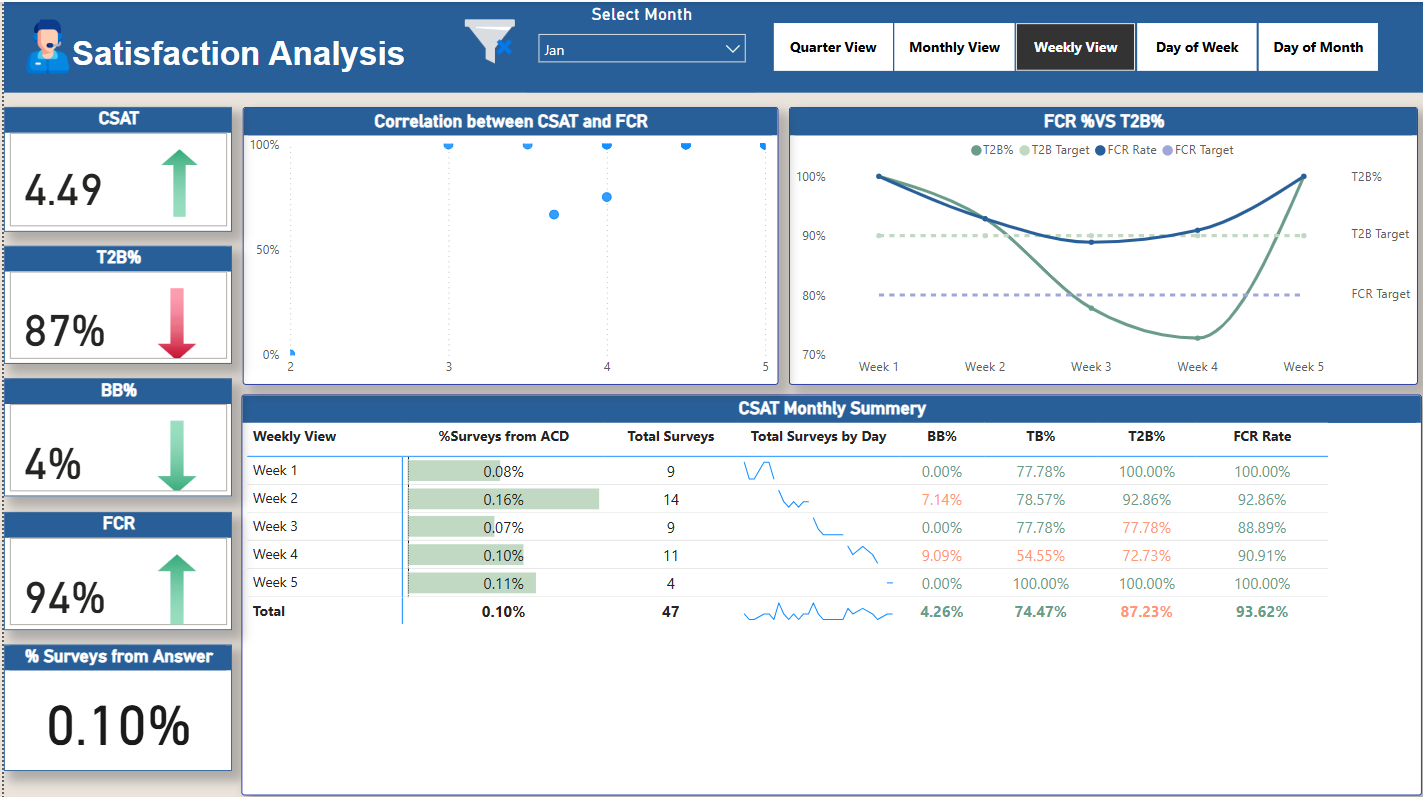

The page's visual inventory and layout, read from the dashboard file:
{"tool":"powerbi","page":{"name":"Satisfaction Analysis","canvas":[1366,768],"ordinal":1},"visuals":[{"type":"shape","box":[0,0,1365.5,87.6],"z":0},{"type":"textbox","box":[50.7,1.5,350.2,89.1],"z":1000},{"type":"image","box":[0,12.3,84.5,61.4],"z":2000},{"type":"lineChart","title":"FCR %VS T2B%","fields":{"Category":["Dim_Date.WeekOfMonth"],"Y":["Measures_Table.T2B%","Target_Table.T2B Target","Measures_Table.FCR Rate","Target_Table.FCR Target"]},"box":[755.1,101.3,604.8,266.9],"z":3000},{"type":"card","title":"% Surveys from Answer","fields":{"Values":["CSAT Data.%Surveys from ACD"]},"box":[0,617.5,219.5,121.6],"z":4000},{"type":"pivotTable","title":"CSAT Monthly Summery","fields":{"Rows":["Dim_Date.WeekOfMonth"],"Values":["CSAT Data.%Surveys from ACD","CSAT Data.Total Surveys","SparklineData(Measures_Table.Total Surveys_[Dim_Date.Date.Variation.Date Hierarchy.Day])","CSAT Data.BB%","CSAT Data.TB%","CSAT Data.T2B%","CSAT Data.FCR Rate"]},"box":[228.9,377.9,1135.1,385.5],"z":5000},{"type":"slicer","fields":{"Values":["Parameter_Date.Parameter_Date"]},"box":[714.2,13.8,631.3,59.9],"z":6000},{"type":"scatterChart","title":"Correlation between CSAT and FCR","fields":{"X":["Measures_Table.Average CSAT"],"Category":["Dim_Date.Date"],"Y":["Measures_Table.FCR Rate"]},"box":[229.3,101.3,514.8,266.9],"z":7000},{"type":"cardVisual","title":"CSAT","fields":{"Data":["Measures_Table.Average CSAT"]},"box":[0,101.1,219.5,120],"z":8000},{"type":"cardVisual","title":"FCR","fields":{"Data":["Measures_Table.FCR Rate"]},"box":[0,489.9,219.5,113.7],"z":9000},{"type":"cardVisual","title":"BB%","fields":{"Data":["Measures_Table.BB%"]},"box":[0,362.4,219.5,113.7],"z":10000},{"type":"cardVisual","title":"T2B%","fields":{"Data":["Measures_Table.T2B%"]},"box":[0,234.9,219.5,113.7],"z":11000},{"type":"slicer","title":"Select Month","fields":{"Values":["Dim_Date.Month"]},"box":[503.8,1.6,219.5,85.3],"z":12000},{"type":"image","box":[430.1,0,73.7,73.7],"z":13000}]}

Visuals, with their boxes in screenshot pixels (x1, y1, x2, y2), scaled from the page's 1366x768 canvas onto the 1423x797 screenshot:
shape: locate(0, 0, 1422, 91)
textbox: locate(53, 2, 418, 94)
image: locate(0, 13, 88, 76)
"FCR %VS T2B%" lineChart: locate(787, 105, 1417, 382)
"% Surveys from Answer" card: locate(0, 641, 229, 767)
"CSAT Monthly Summery" pivotTable: locate(238, 392, 1421, 792)
slicer - Parameter_Date.Parameter_Date: locate(744, 14, 1402, 76)
"Correlation between CSAT and FCR" scatterChart: locate(239, 105, 775, 382)
"CSAT" cardVisual: locate(0, 105, 229, 229)
"FCR" cardVisual: locate(0, 508, 229, 626)
"BB%" cardVisual: locate(0, 376, 229, 494)
"T2B%" cardVisual: locate(0, 244, 229, 362)
"Select Month" slicer: locate(525, 2, 753, 90)
image: locate(448, 0, 525, 76)
